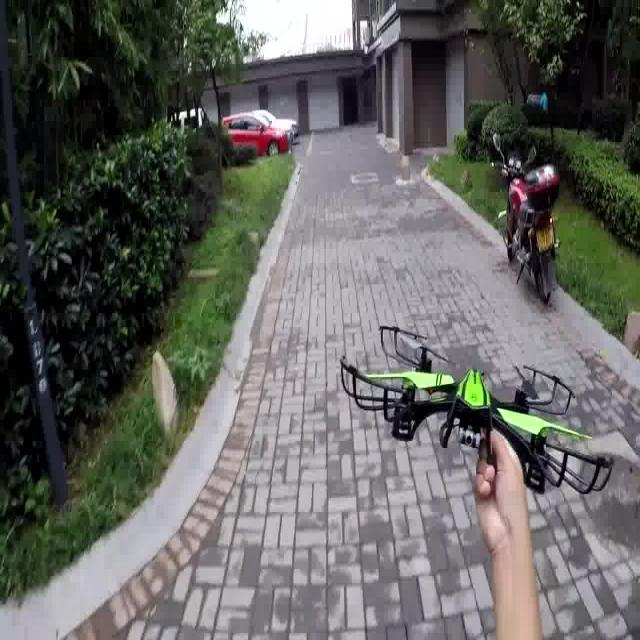drones: (338, 312, 622, 508)
